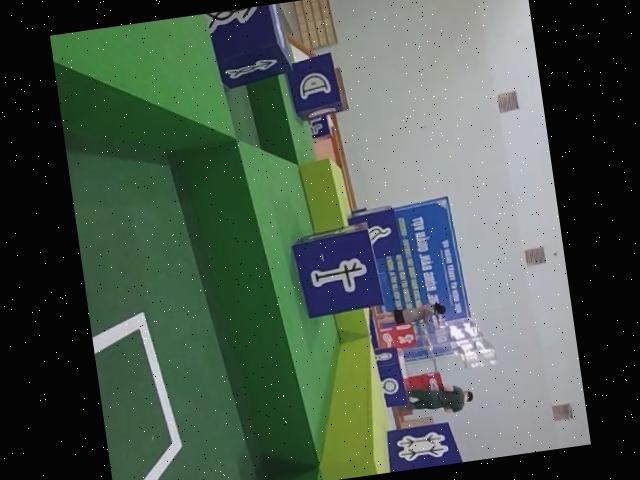R2 Real Blue: (287, 222, 384, 320), (199, 3, 292, 91), (381, 421, 466, 473), (282, 49, 343, 120), (347, 204, 403, 260), (374, 345, 408, 406)
